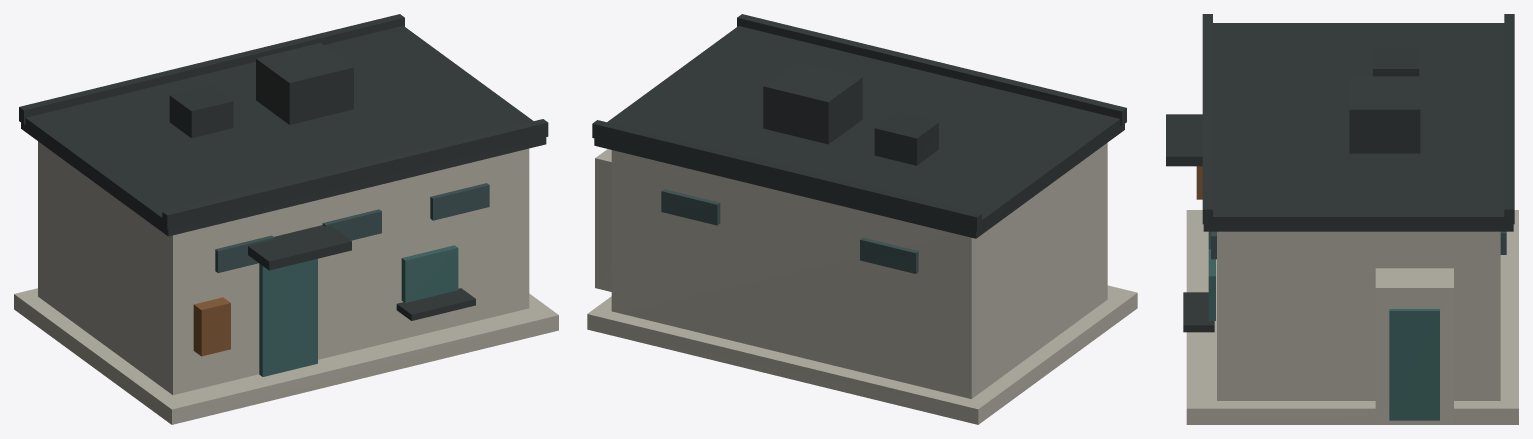
Rendered from genetics-laboratory.source.glb.
3 renders of one model, left to right at view 1: azimuth 30°, elevation 25°; view 2: azimuth 150°, elevation 25°; view 3: azimuth 270°, elevation 25°, orthographic. The views are drawn at different scales.
Parts seen in each view (by area): view 1: genetics-laboratory-secure-wall-shell-mesh, genetics-laboratory-shallow-charcoal-roof-mesh, genetics-laboratory-clean-foundation-apron-mesh, genetics-laboratory-roof-parapet-front-mesh, genetics-laboratory-large-hvac-box-mesh, genetics-laboratory-controlled-entry-door-mesh, genetics-laboratory-roof-parapet-rear-mesh, genetics-laboratory-entry-canopy-mesh, genetics-laboratory-small-hvac-box-mesh, genetics-laboratory-teal-sample-transfer-hatch-mesh, genetics-laboratory-external-emergency-cabinet-mesh, genetics-laboratory-front-high-window-1.75-mesh (+3 smaller); view 2: genetics-laboratory-secure-wall-shell-mesh, genetics-laboratory-shallow-charcoal-roof-mesh, genetics-laboratory-clean-foundation-apron-mesh, genetics-laboratory-roof-parapet-rear-mesh, genetics-laboratory-large-hvac-box-mesh, genetics-laboratory-roof-parapet-front-mesh, genetics-laboratory-small-hvac-box-mesh, genetics-laboratory-rear-service-alcove-mesh, genetics-laboratory-rear-high-window-1.6-mesh, genetics-laboratory-rear-high-window--1.6-mesh; view 3: genetics-laboratory-shallow-charcoal-roof-mesh, genetics-laboratory-secure-wall-shell-mesh, genetics-laboratory-clean-foundation-apron-mesh, genetics-laboratory-rear-service-alcove-mesh, genetics-laboratory-rear-service-door-mesh, genetics-laboratory-large-hvac-box-mesh, genetics-laboratory-roof-parapet-rear-mesh, genetics-laboratory-roof-parapet-front-mesh, genetics-laboratory-entry-canopy-mesh, genetics-laboratory-small-hvac-box-mesh, genetics-laboratory-transfer-hatch-shelf-mesh, genetics-laboratory-teal-sample-transfer-hatch-mesh.
Part boxes in pixels (x1,y1,x2,y2): genetics-laboratory-secure-wall-shell-mesh: (38, 141, 529, 394); genetics-laboratory-shallow-charcoal-roof-mesh: (21, 25, 546, 236); genetics-laboratory-clean-foundation-apron-mesh: (14, 288, 558, 424); genetics-laboratory-roof-parapet-front-mesh: (162, 119, 548, 229); genetics-laboratory-large-hvac-box-mesh: (256, 43, 353, 124); genetics-laboratory-controlled-entry-door-mesh: (259, 258, 317, 376); genetics-laboratory-roof-parapet-rear-mesh: (19, 14, 404, 124); genetics-laboratory-entry-canopy-mesh: (248, 225, 351, 270); genetics-laboratory-small-hvac-box-mesh: (169, 85, 233, 138); genetics-laboratory-teal-sample-transfer-hatch-mesh: (401, 245, 458, 302); genetics-laboratory-external-emergency-cabinet-mesh: (193, 297, 230, 356); genetics-laboratory-front-high-window-1.75-mesh: (430, 183, 489, 220); genetics-laboratory-secure-wall-shell-mesh: (611, 143, 1107, 398); genetics-laboratory-shallow-charcoal-roof-mesh: (594, 26, 1124, 238); genetics-laboratory-clean-foundation-apron-mesh: (587, 285, 1137, 424); genetics-laboratory-roof-parapet-rear-mesh: (592, 120, 981, 231); genetics-laboratory-large-hvac-box-mesh: (763, 61, 862, 144); genetics-laboratory-roof-parapet-front-mesh: (737, 14, 1126, 125); genetics-laboratory-small-hvac-box-mesh: (874, 112, 938, 165); genetics-laboratory-rear-service-alcove-mesh: (595, 149, 611, 291); genetics-laboratory-rear-high-window-1.6-mesh: (661, 189, 720, 225); genetics-laboratory-rear-high-window--1.6-mesh: (860, 237, 918, 273); genetics-laboratory-shallow-charcoal-roof-mesh: (1203, 23, 1513, 231); genetics-laboratory-secure-wall-shell-mesh: (1217, 231, 1500, 400); genetics-laboratory-clean-foundation-apron-mesh: (1186, 210, 1518, 424); genetics-laboratory-rear-service-alcove-mesh: (1375, 268, 1453, 423); genetics-laboratory-rear-service-door-mesh: (1389, 309, 1439, 420); genetics-laboratory-large-hvac-box-mesh: (1349, 76, 1420, 153); genetics-laboratory-roof-parapet-rear-mesh: (1504, 14, 1514, 224); genetics-laboratory-roof-parapet-front-mesh: (1202, 14, 1212, 224); genetics-laboratory-entry-canopy-mesh: (1166, 114, 1202, 166); genetics-laboratory-small-hvac-box-mesh: (1373, 47, 1419, 76); genetics-laboratory-transfer-hatch-shelf-mesh: (1183, 292, 1214, 332); genetics-laboratory-teal-sample-transfer-hatch-mesh: (1208, 249, 1215, 320).
Bounding box in the file's own units: 6.74 × 3.69 × 4.72.
